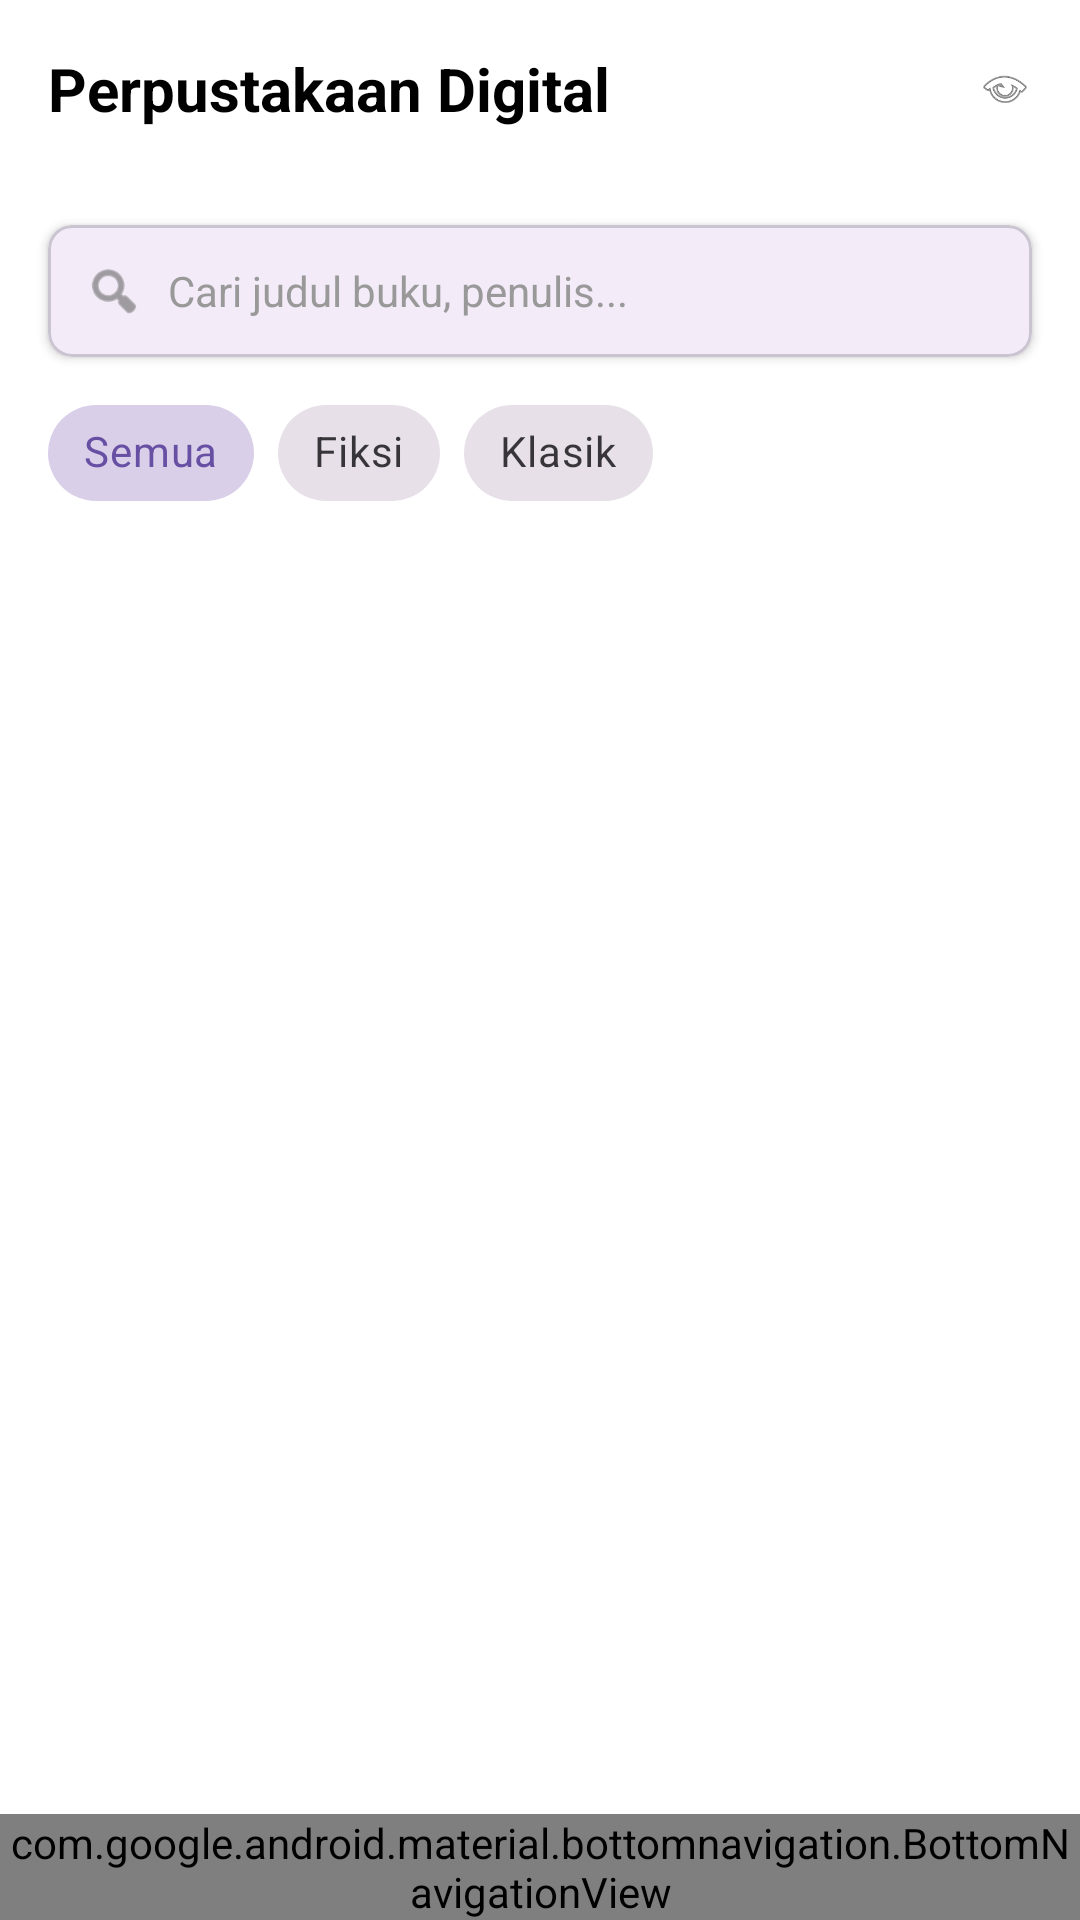

Icons on this 1080 × 1920 Android screen, each with the point to tap as (x=x, y=y):
search: (x=114, y=291)
view: (x=1005, y=89)
